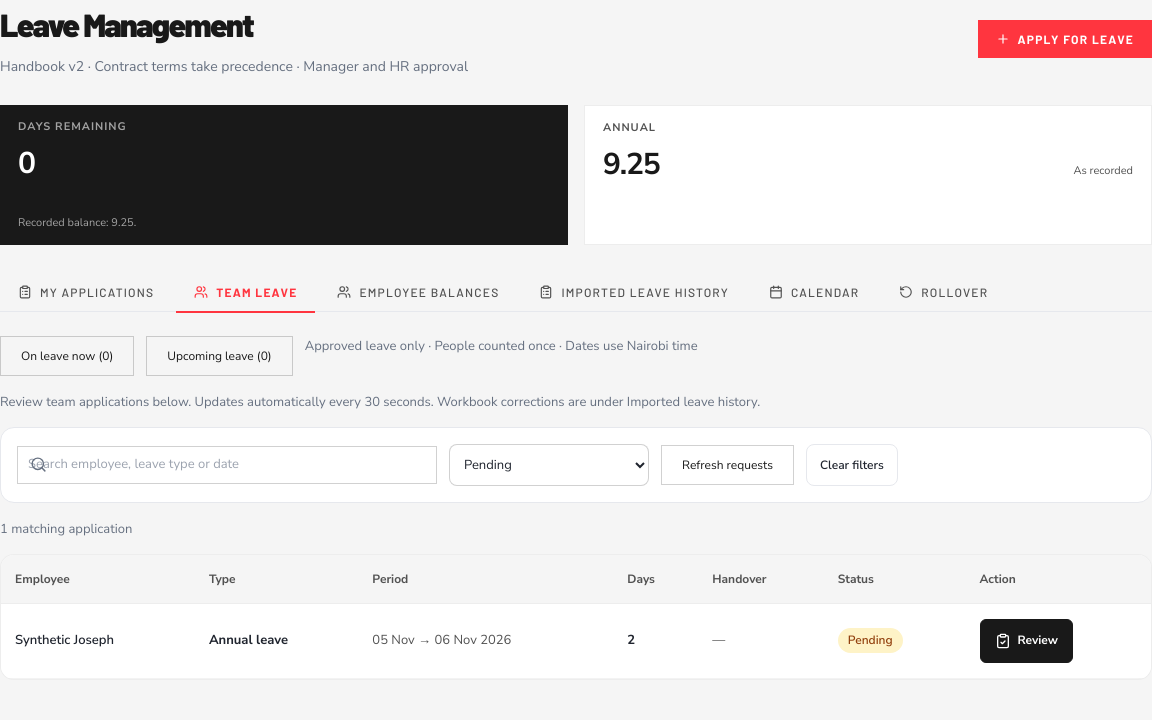
Test: HR can approve the pending imported row directly from Team Leave without changing dates or days
Later steps or results of the test are not shown.
Click the button "Review" at [1026, 641], box [980,619,1073,663]
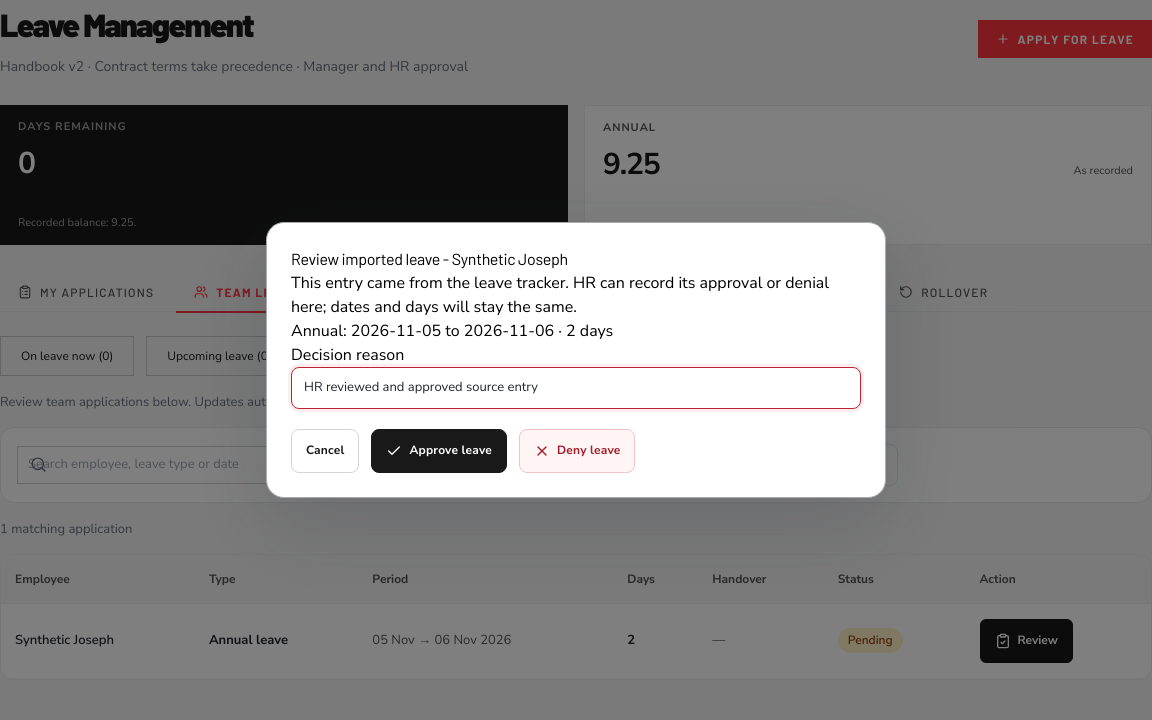
Check: the dialog shows "Review imported leave", box [291,249,452,268]
